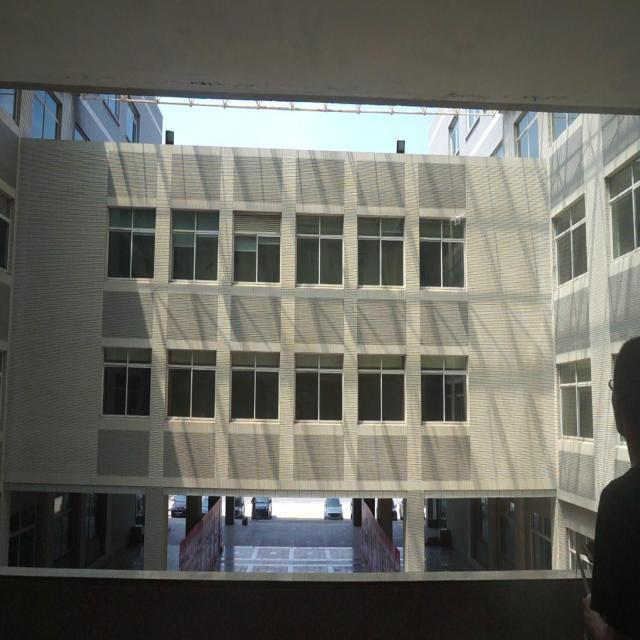UAV: (449, 213, 465, 226)
